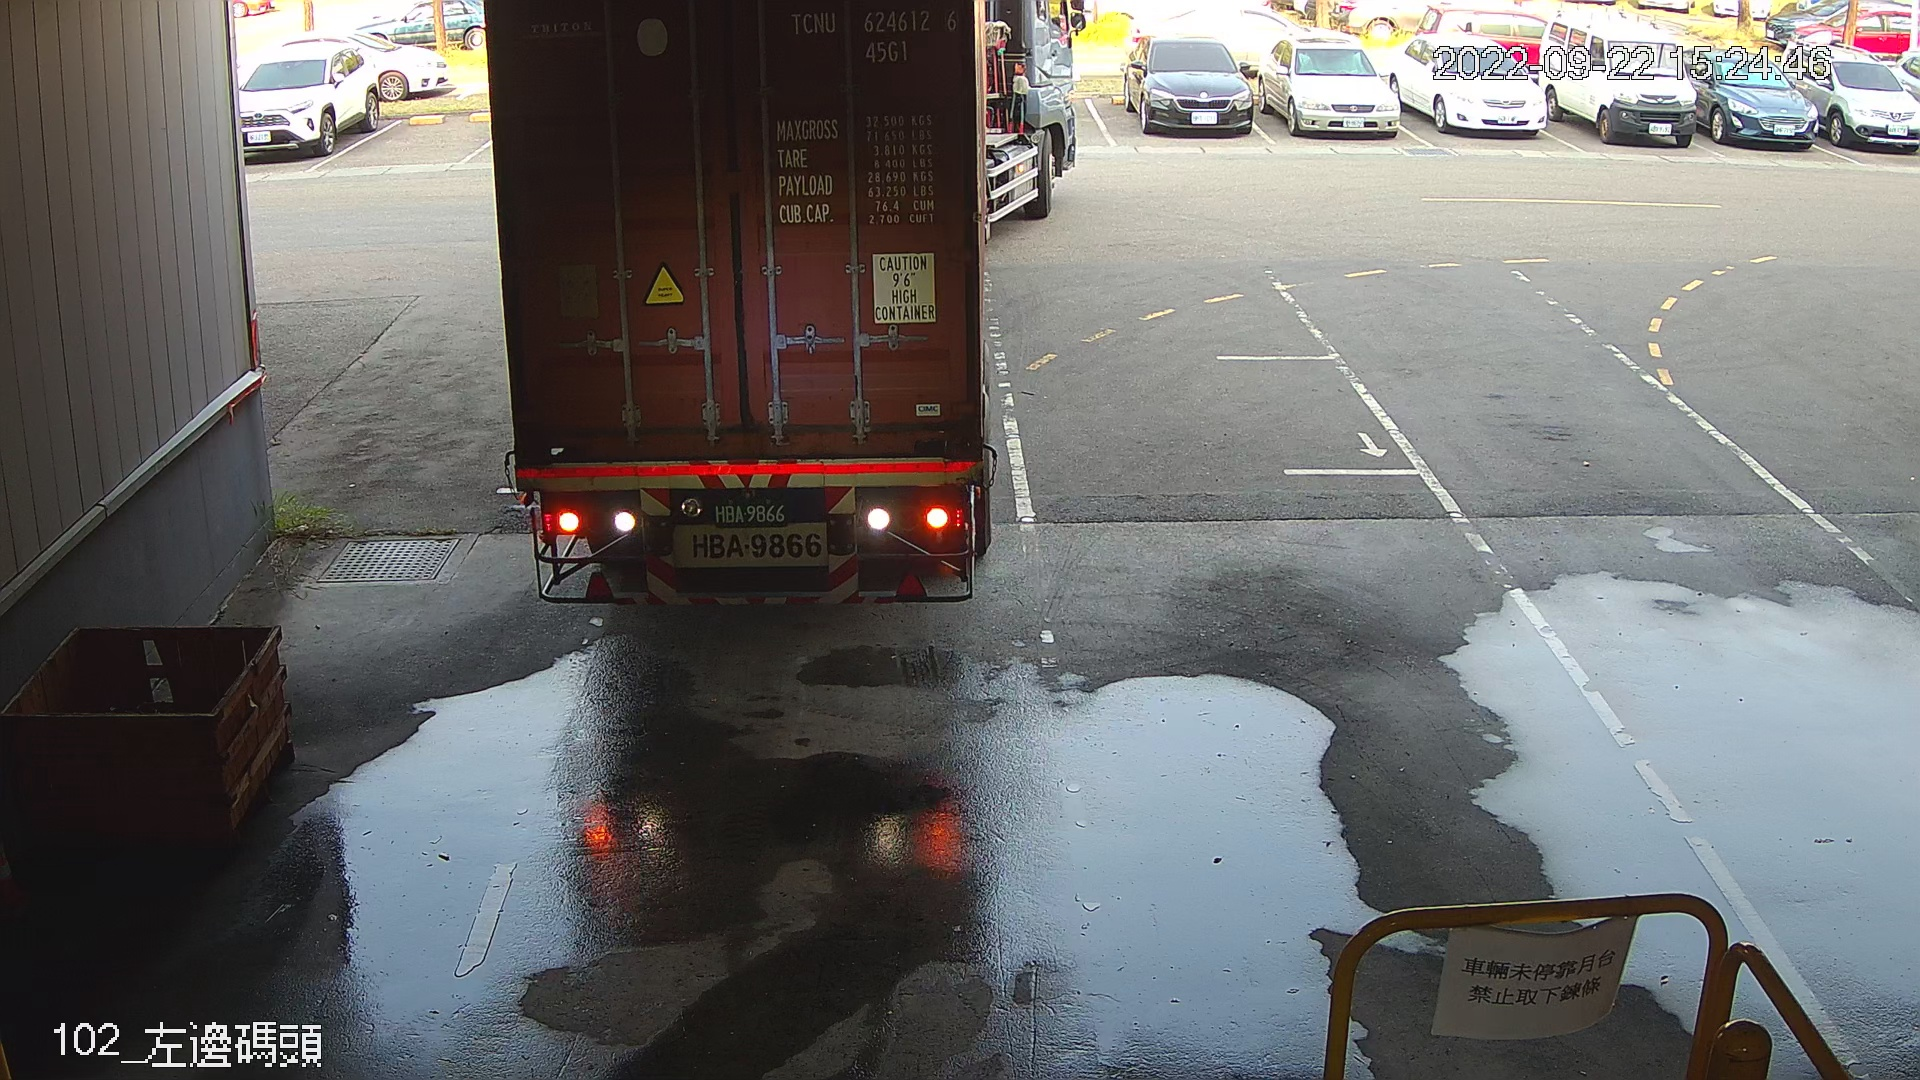container: (785, 5, 967, 67)
